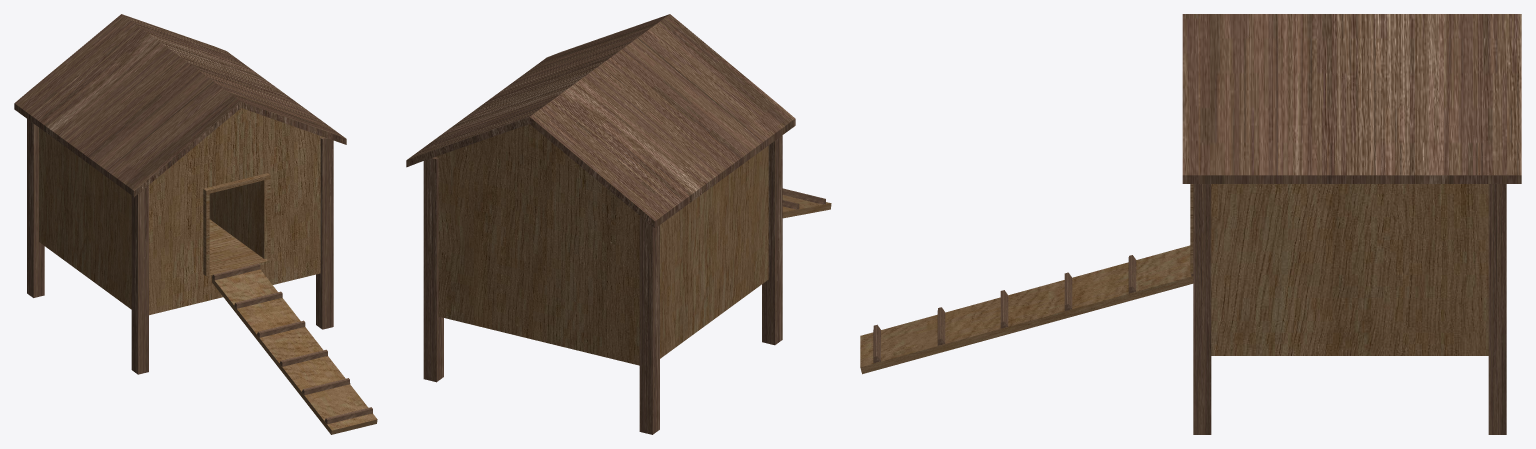
File: SM_Prop_Chicken_Coop_01.fbx
The picture shows the model from 3 angles, left to right: view 1: azimuth 30°, elevation 25°; view 2: azimuth 150°, elevation 25°; view 3: azimuth 270°, elevation 25°; orthographic projection. The views are drawn at different scales.
Parts seen in each view (by area): view 1: Cube.007, Cube.012, Cube, Cube.008, Cube.010, Cube.009; view 2: Cube.007, Cube.012, Cube.009, Cube.011, Cube.008, Cube; view 3: Cube.012, Cube.007, Cube, Cube.010, Cube.011.
Part boxes in pixels (<box>): Cube.007: <box>39,108,323,315</box>; Cube.012: <box>14,14,346,196</box>; Cube: <box>212,269,377,434</box>; Cube.008: <box>131,185,148,374</box>; Cube.010: <box>316,137,333,329</box>; Cube.009: <box>27,119,44,297</box>; Cube.007: <box>436,124,768,365</box>; Cube.012: <box>406,14,795,228</box>; Cube.009: <box>639,216,659,434</box>; Cube.011: <box>423,157,443,382</box>; Cube.008: <box>762,135,782,345</box>; Cube: <box>782,195,831,218</box>; Cube.012: <box>1182,14,1521,183</box>; Cube.007: <box>1190,184,1488,355</box>; Cube: <box>860,245,1193,374</box>; Cube.010: <box>1193,184,1211,434</box>; Cube.011: <box>1488,184,1506,434</box>.
Bounding box in the file's own units: 204 × 230 × 389.
